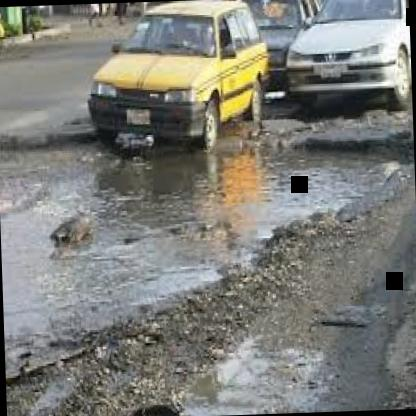car: (71, 0, 281, 175), (275, 0, 412, 117)
